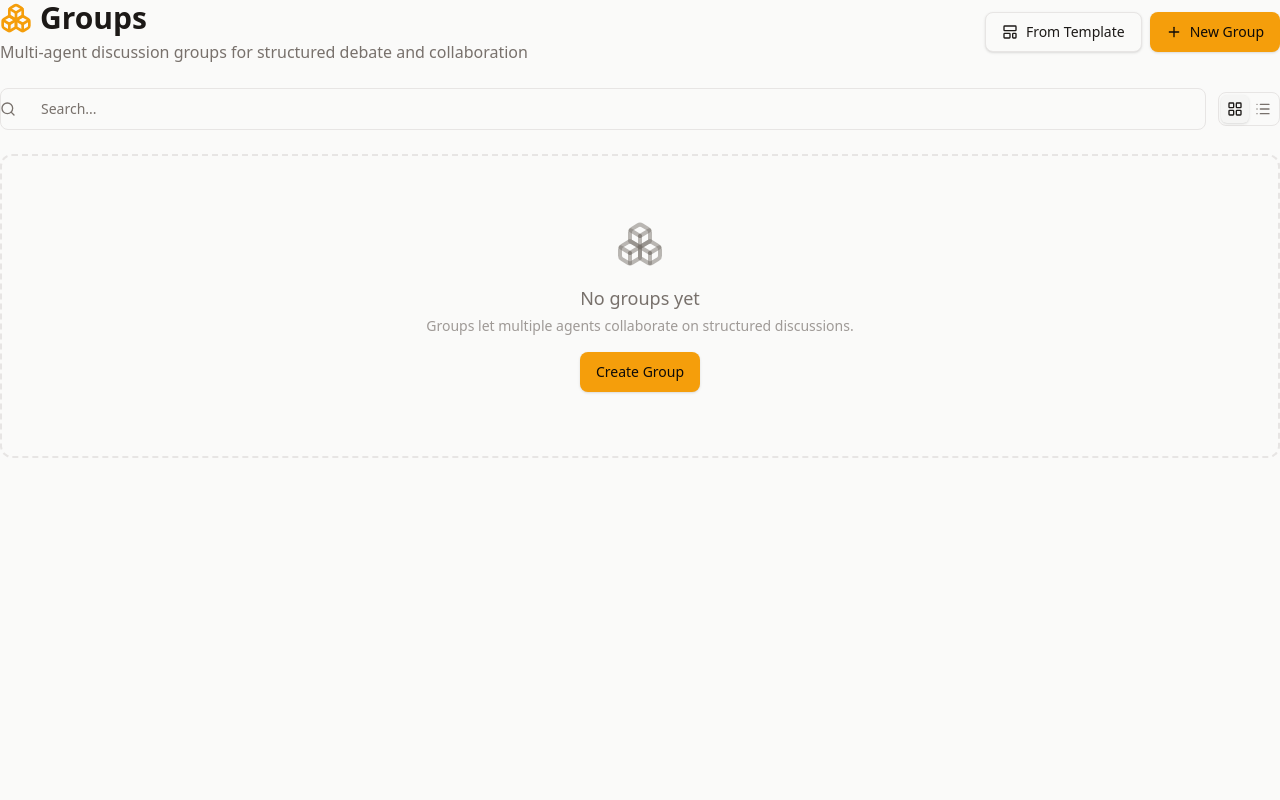
Scenario: GroupsPage › empty state create button opens create dialog
The width and height of the screenshot is (1280, 800).
Click the button "Create Group": point(640, 372) x1=580 y1=352 x2=700 y2=392
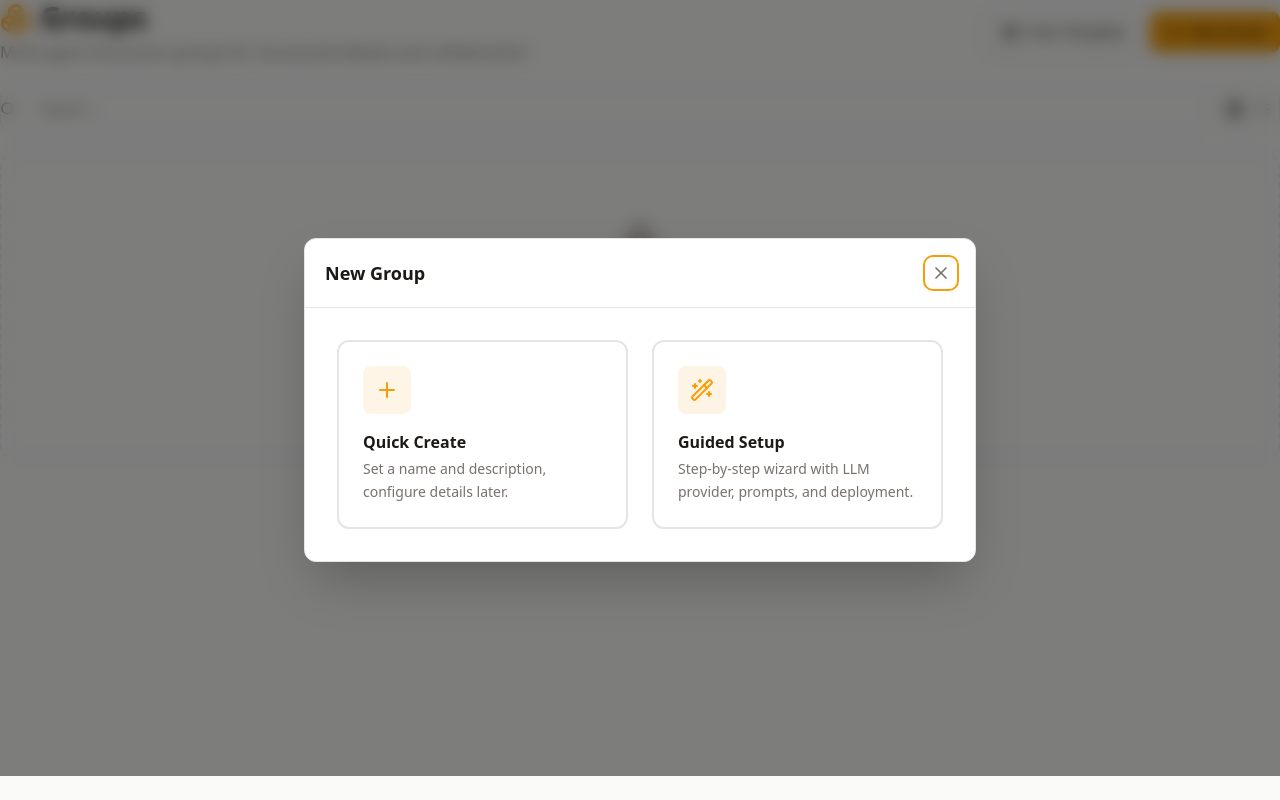
Result: the heading "Quick Create" is shown at x1=363 y1=431 x2=466 y2=453
